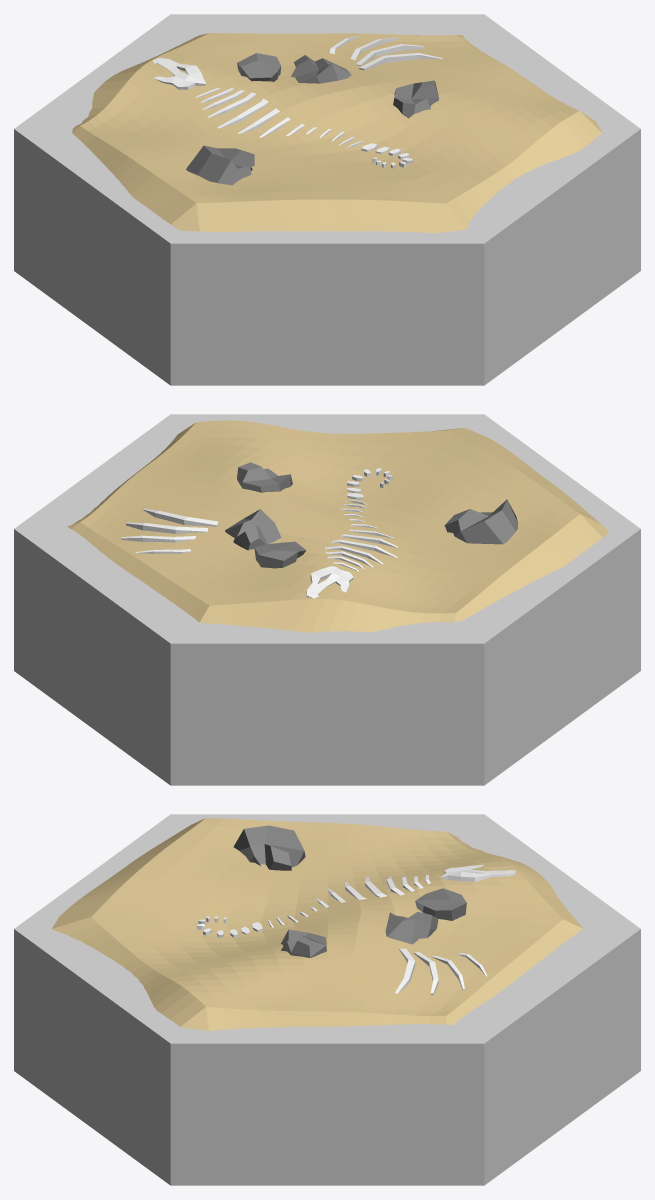
The model's file is Desert.fbx.
3 views of the same model, one above another, from view 1: azimuth 30°, elevation 25°; view 2: azimuth 150°, elevation 25°; view 3: azimuth 270°, elevation 25° (orthographic).
Visible parts, largest first — view 1: Base, Sand, Cube, Skeleton; view 2: Base, Sand, Cube, Skeleton; view 3: Base, Sand, Cube, Skeleton.
Part boxes in pixels (left/top/right/bottom): Base: left=14, top=14, right=640, bottom=385; Sand: left=72, top=33, right=603, bottom=233; Cube: left=186, top=53, right=438, bottom=185; Skeleton: left=153, top=36, right=442, bottom=168; Base: left=14, top=414, right=640, bottom=785; Sand: left=67, top=420, right=608, bottom=632; Cube: left=225, top=462, right=518, bottom=568; Skeleton: left=121, top=468, right=397, bottom=598; Base: left=14, top=814, right=640, bottom=1185; Sand: left=51, top=818, right=583, bottom=1030; Cube: left=233, top=825, right=466, bottom=957; Skeleton: left=197, top=864, right=515, bottom=995.
Size of the model in its own units: 1732 by 620 by 2000.
